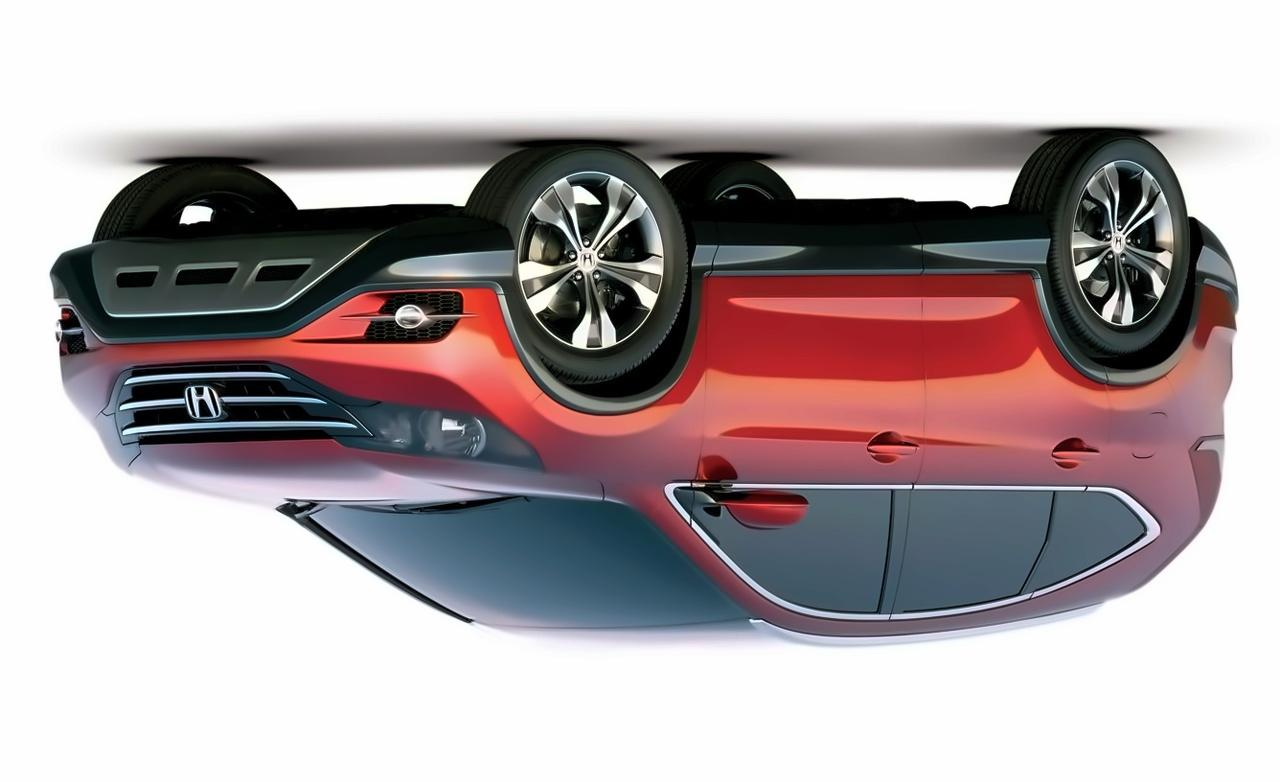Car hood: (120, 438, 589, 510)
Driver-s door - -F-R-: (679, 208, 931, 644)
Fender - -F-R-: (521, 269, 738, 546)
Front bumper: (45, 216, 549, 433)
Headlight - -R-: (346, 398, 547, 474)
Passenger-s door - -R-R-: (866, 194, 1060, 642)
Rear bumper: (1156, 219, 1256, 430)
Rear light - -R-: (1186, 434, 1230, 529)
Side bumper - -R-: (689, 190, 1060, 344)
Side mirror - -R-: (701, 484, 813, 532)
